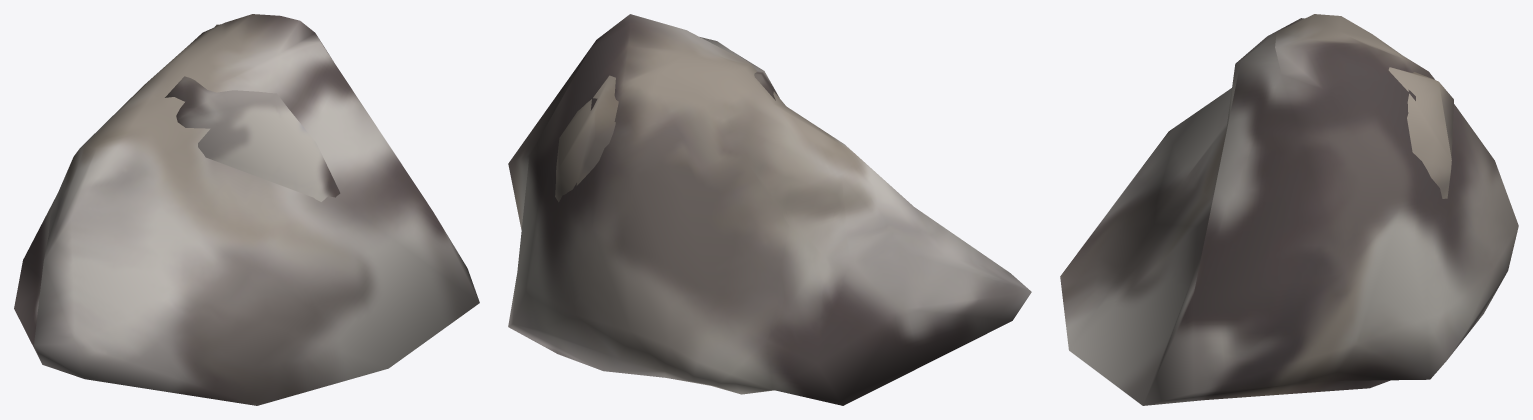
File: Stone_01.fbx
The picture shows the model from 3 angles, left to right: view 1: azimuth 30°, elevation 25°; view 2: azimuth 150°, elevation 25°; view 3: azimuth 270°, elevation 25°; orthographic projection. The views are drawn at different scales.
Visible parts, largest first — view 1: Stone.002, Stone.001; view 2: Stone.002, Stone.001; view 3: Stone.002, Stone.001.
Part boxes in pixels (x1,y1,x2,y2): Stone.002: (14, 14, 479, 405); Stone.001: (165, 24, 340, 201); Stone.002: (508, 14, 1031, 405); Stone.001: (555, 52, 779, 202); Stone.002: (1060, 14, 1518, 405); Stone.001: (1225, 18, 1453, 198).
Size of the model in its own units: 6.45 by 3.89 by 5.14.
